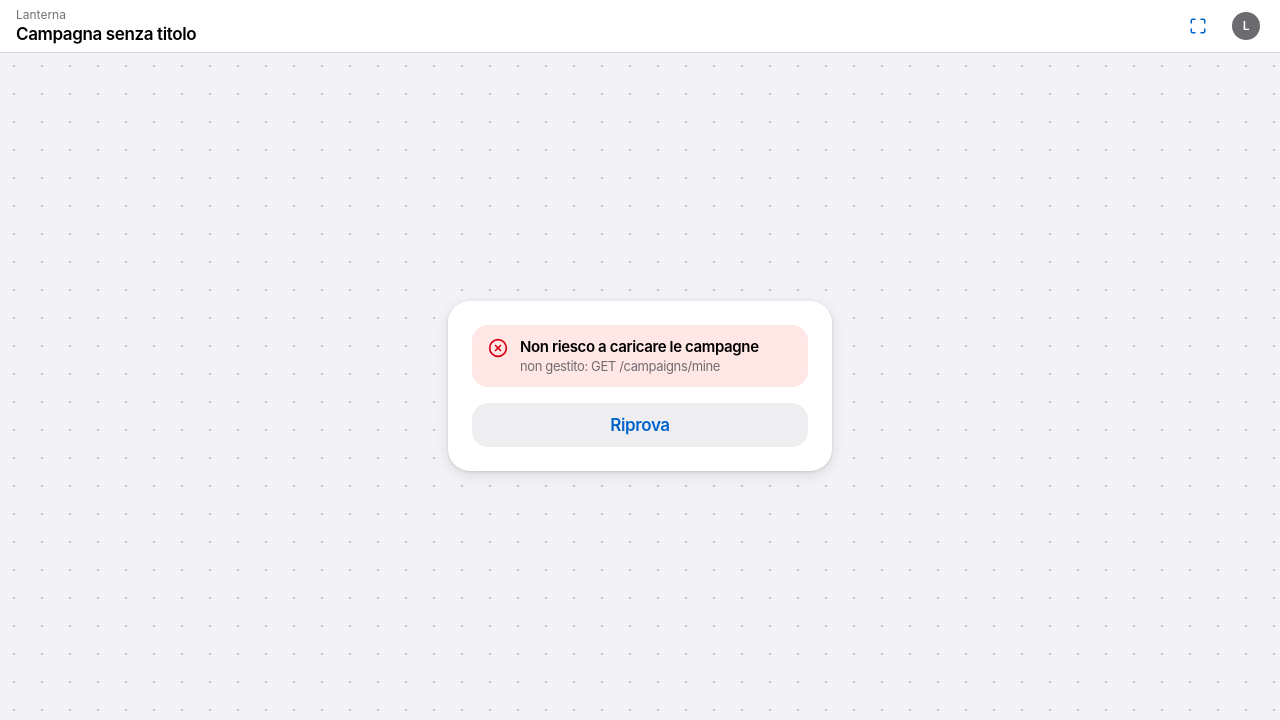
Test: sessione e logout › cambio password: valida i requisiti e invia la richiesta
Later steps or results of the test are not shown.
Click the button named "Menu utente" at (1246, 26), box [1224, 4, 1268, 48]
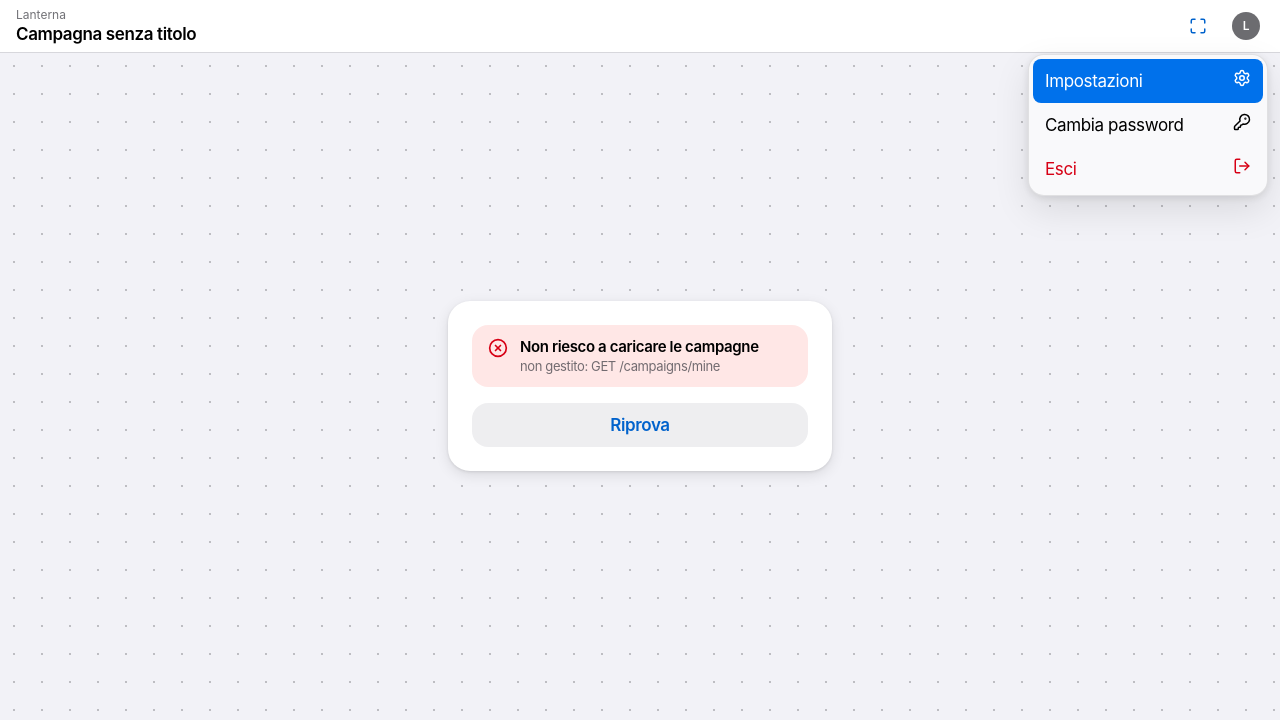
Click the menu item "Cambia password" at (1148, 125), box [1033, 103, 1263, 147]
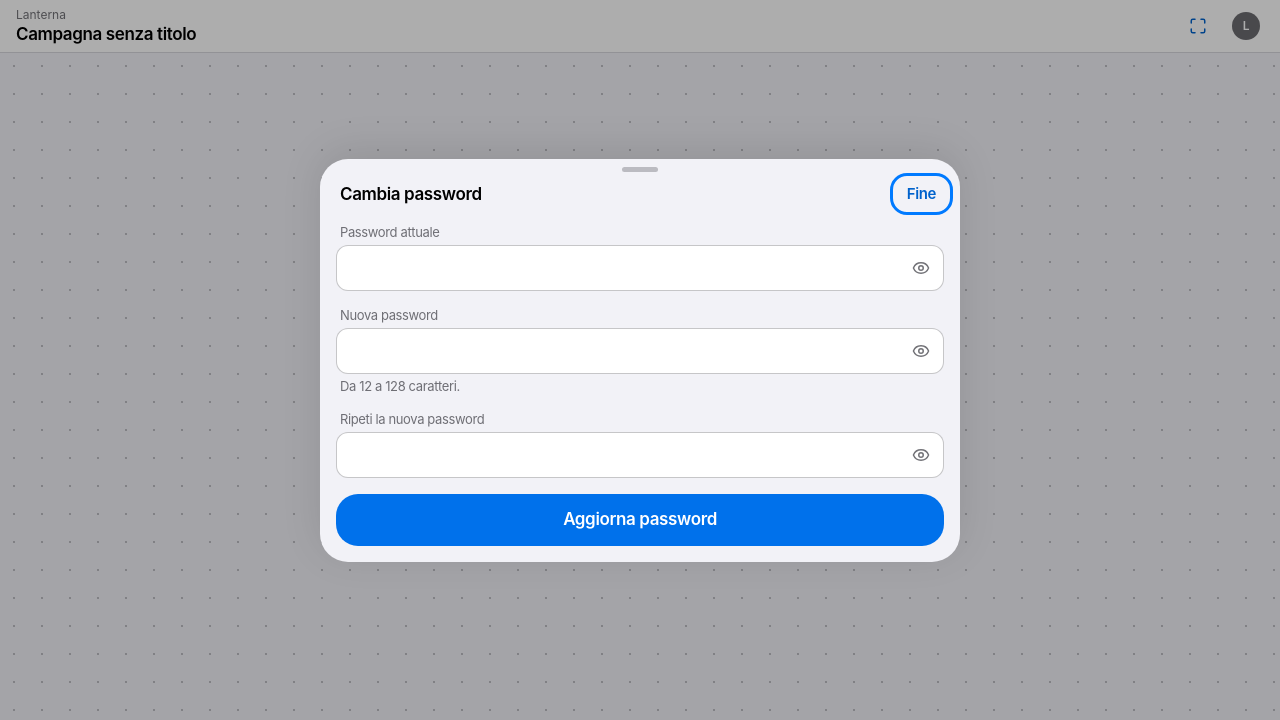
Type "vecchia-password-1" into the password field labelled "Password attuale" at (624, 268), box [349, 246, 899, 290]
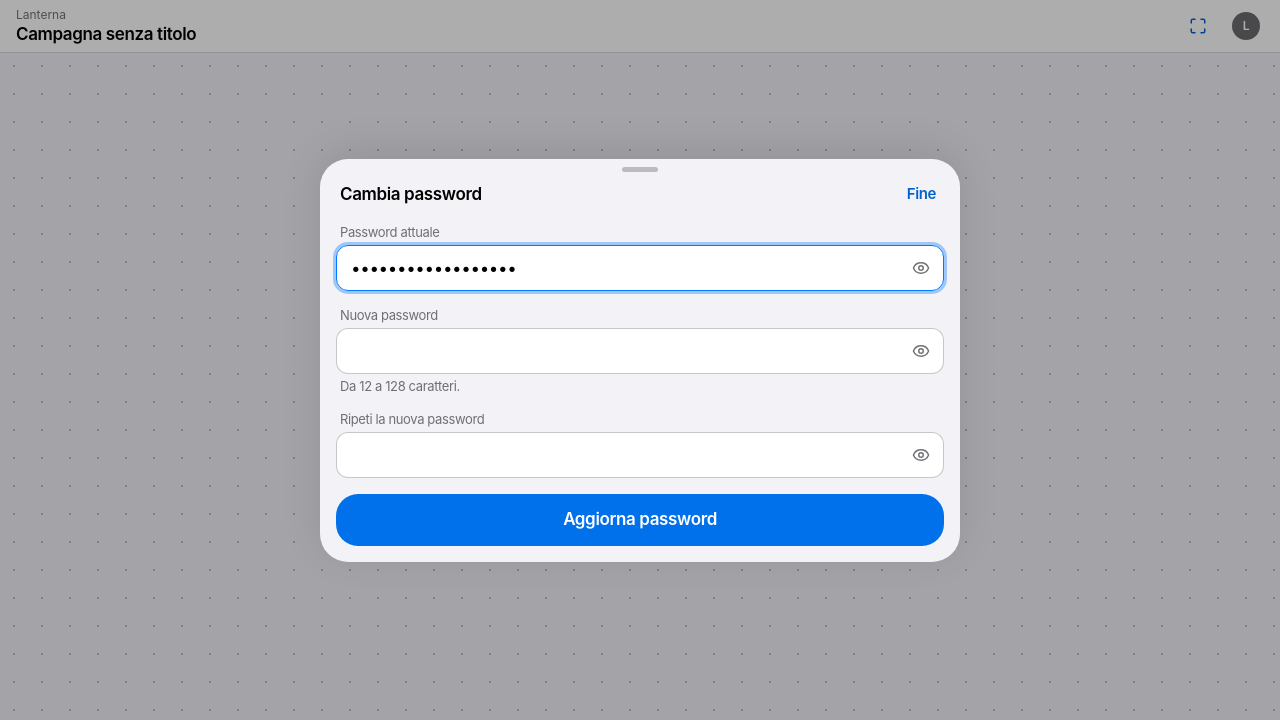
Type "corta" into the password field labelled "Nuova password" at (624, 350), box [349, 328, 899, 372]
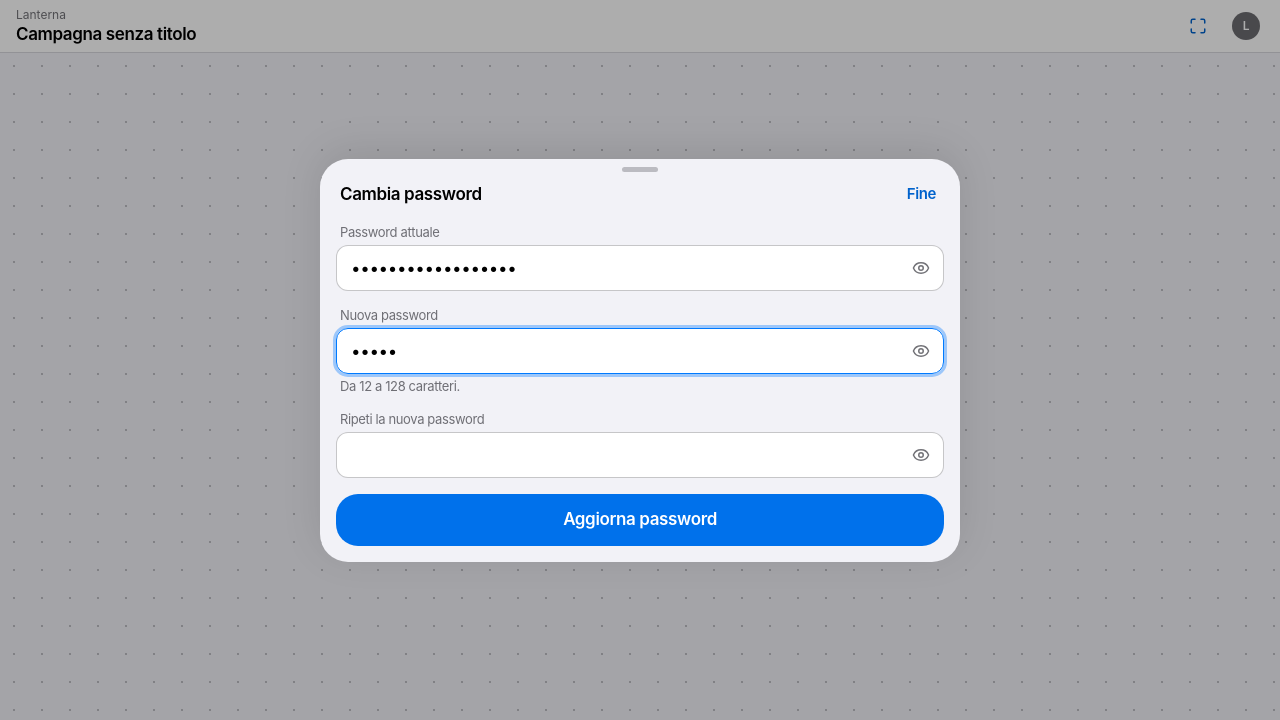
Type "corta" into the password field labelled "Ripeti la nuova password" at (624, 454), box [349, 432, 899, 476]
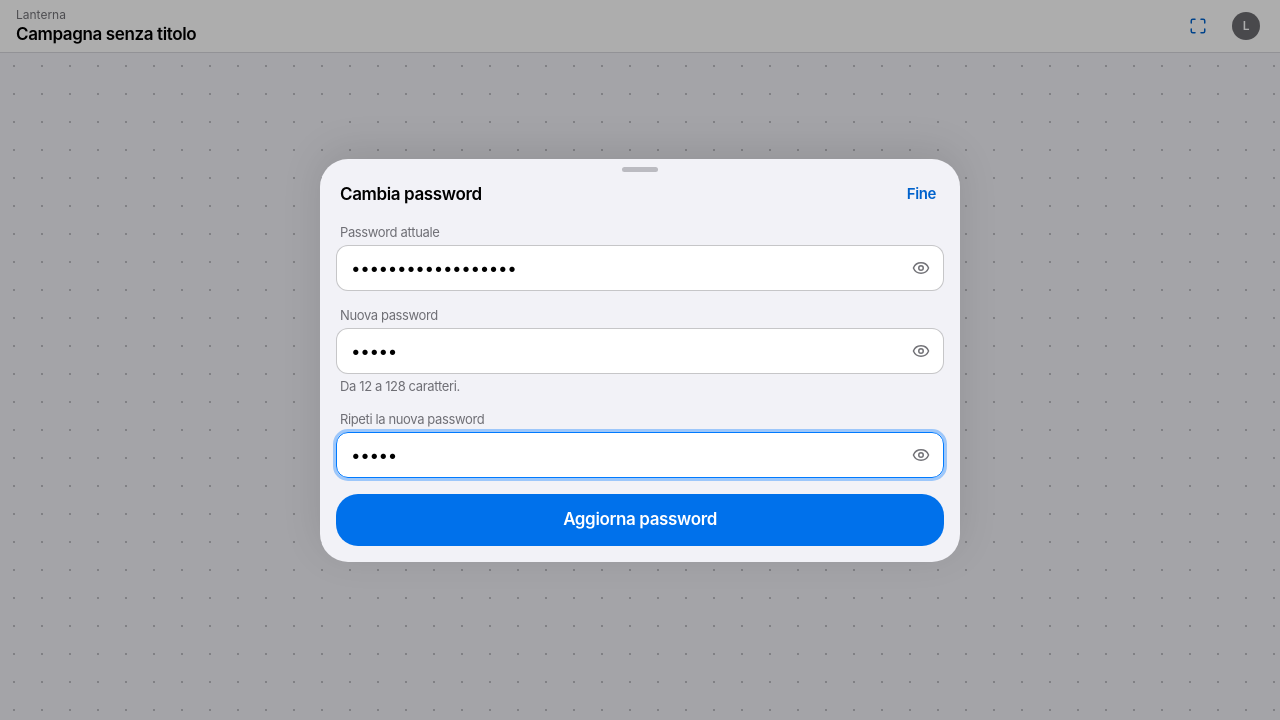
Click the button "Aggiorna password" at (640, 519), box [336, 493, 944, 545]
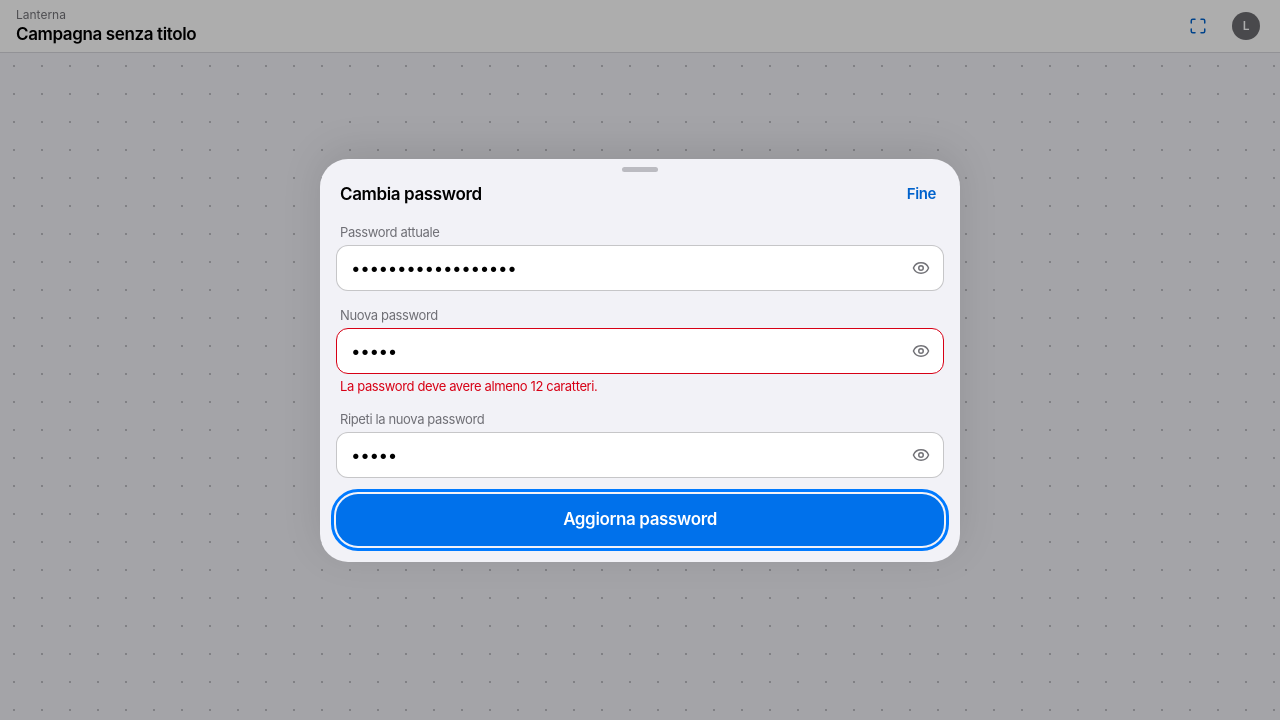
Now the text "La password deve avere almeno 12 caratteri." is shown, box [340, 378, 597, 394]
